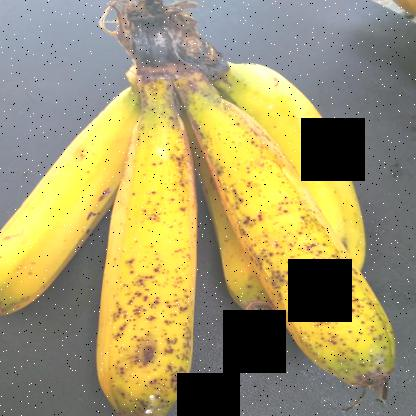ripe: (172, 82, 394, 404), (80, 96, 210, 416)
